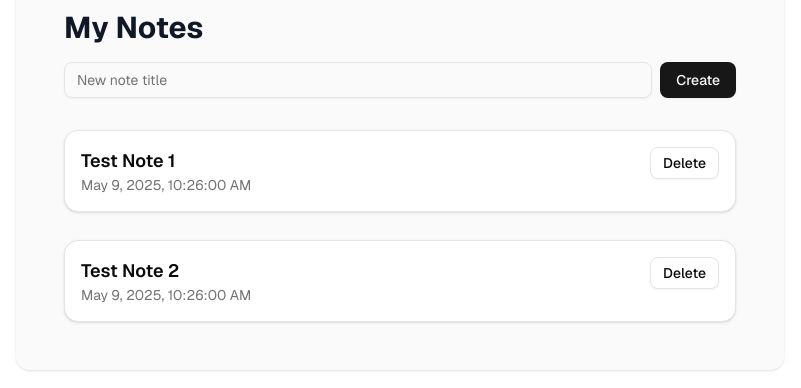
Test case: NoteList › deletes a note when delete button is clicked
Click the button "Delete" in the row of "Test Note 1" at (684, 163), box [650,147,719,179]
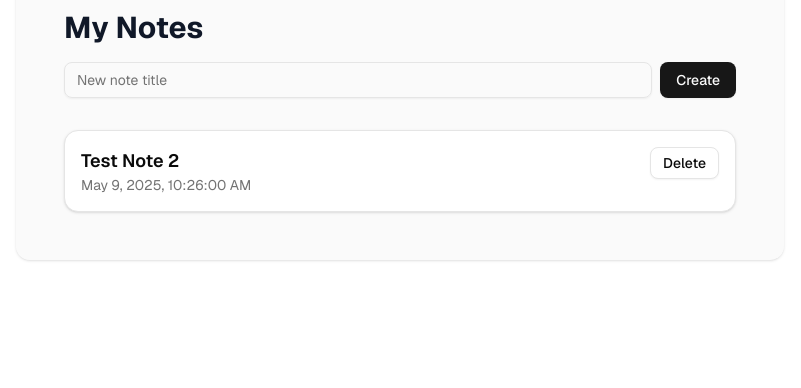
Expected: the heading "Test Note 2" is shown, [81,149,179,172]
Result: the heading "Test Note 1" is gone
